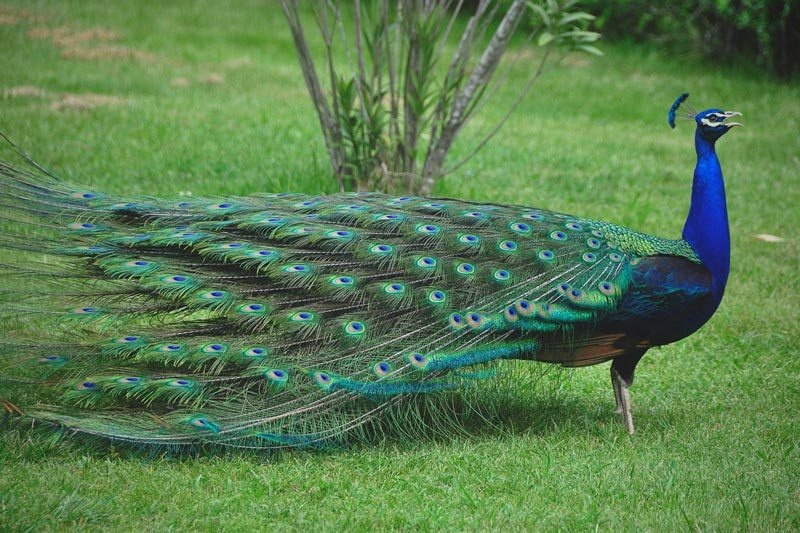pavoreal: (540, 100, 752, 450)
